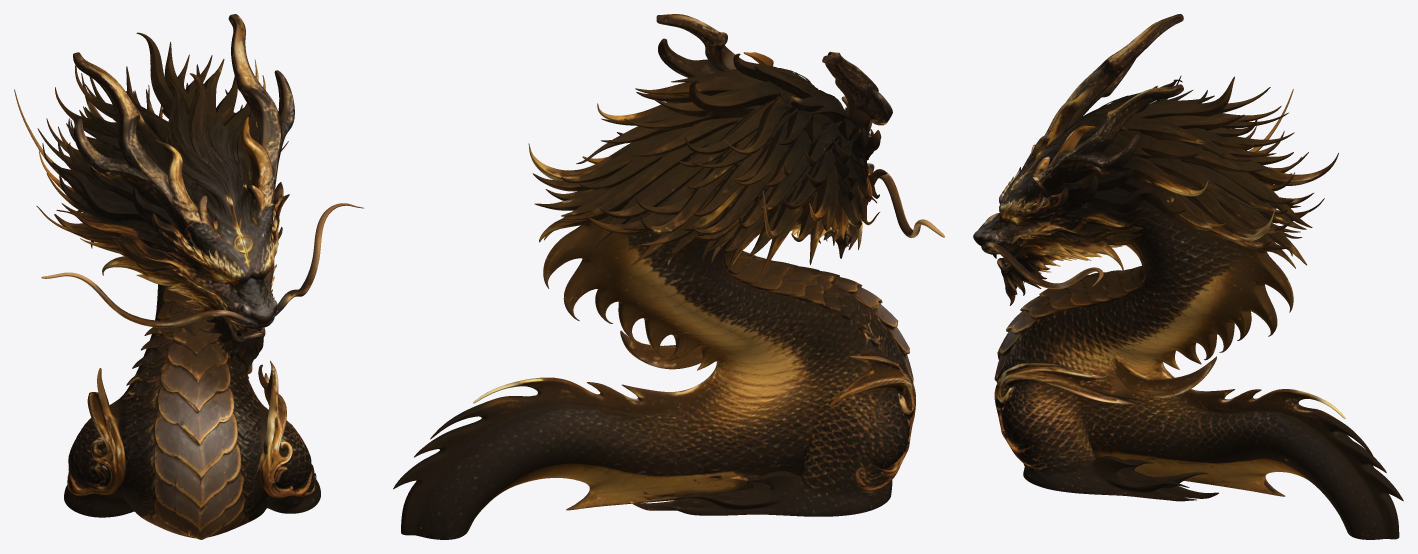
The model's file is gou-chen.glb.
3 views of the same model, side by side, from view 1: azimuth 30°, elevation 25°; view 2: azimuth 150°, elevation 25°; view 3: azimuth 270°, elevation 25° (orthographic). The views are drawn at different scales.
Parts seen in each view (by area): view 1: node_0; view 2: node_0; view 3: node_0.
Part boxes in pixels (x1=…): node_0: x1=14, y1=14, x2=364, y2=539; node_0: x1=393, y1=14, x2=944, y2=539; node_0: x1=973, y1=14, x2=1403, y2=539.
Bounding box in the file's own units: 0.6542 × 0.7484 × 0.7353.
1 material, 1 textured.
